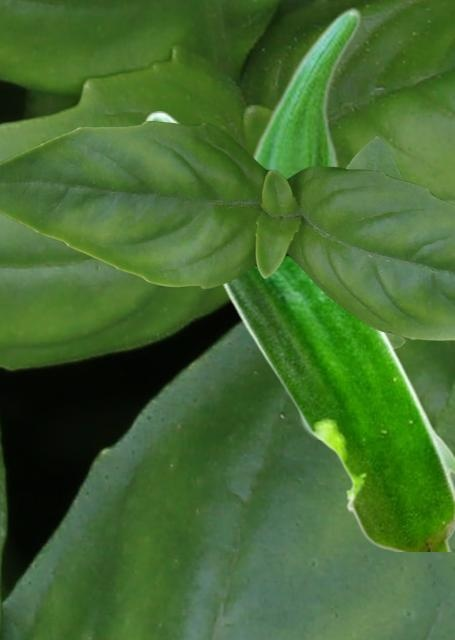okra: (144, 111, 453, 550), (249, 5, 366, 438)
